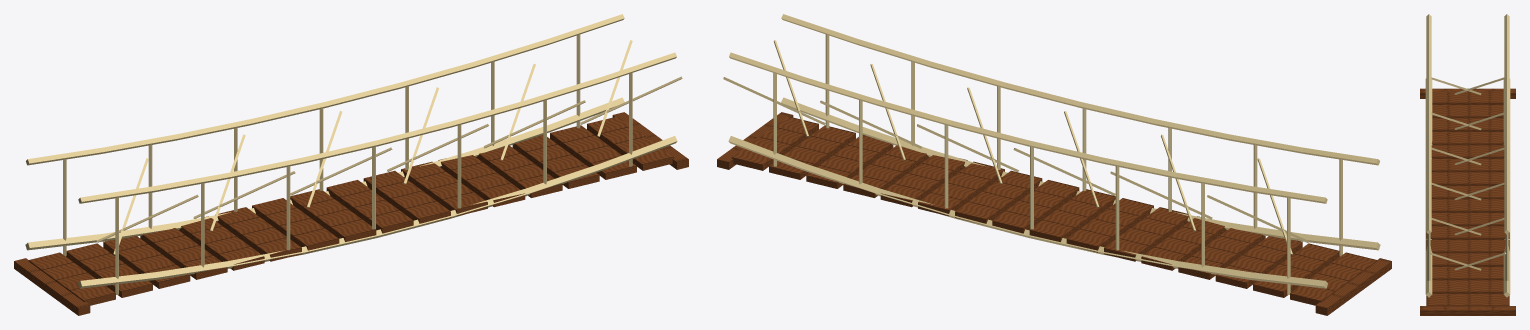
The model's file is andean-terraces-and-stone-village-rope-suspension-brid-58a18645__38241.glb.
The picture shows the model from 3 angles, left to right: view 1: azimuth 30°, elevation 25°; view 2: azimuth 150°, elevation 25°; view 3: azimuth 270°, elevation 25°; orthographic projection. The views are drawn at different scales.
Visible parts, largest first — view 1: rope-suspension-bridge-timber, rope-suspension-bridge-thatch; view 2: rope-suspension-bridge-timber, rope-suspension-bridge-thatch; view 3: rope-suspension-bridge-timber, rope-suspension-bridge-thatch.
Boxes of the visible parts, x1,y1,x2,y2 form: rope-suspension-bridge-timber: [14, 112, 688, 315]; rope-suspension-bridge-thatch: [25, 14, 682, 294]; rope-suspension-bridge-timber: [717, 112, 1391, 315]; rope-suspension-bridge-thatch: [723, 14, 1380, 294]; rope-suspension-bridge-timber: [1420, 88, 1515, 315]; rope-suspension-bridge-thatch: [1425, 14, 1510, 297].
Size of the model in its own units: 8.21 by 1.45 by 1.5.
Materials: 2 (1 with a texture image).
